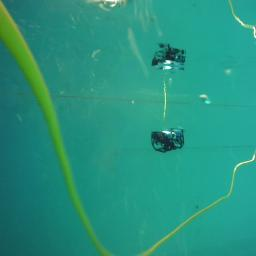front: (152, 128, 186, 153), (151, 130, 184, 152)
